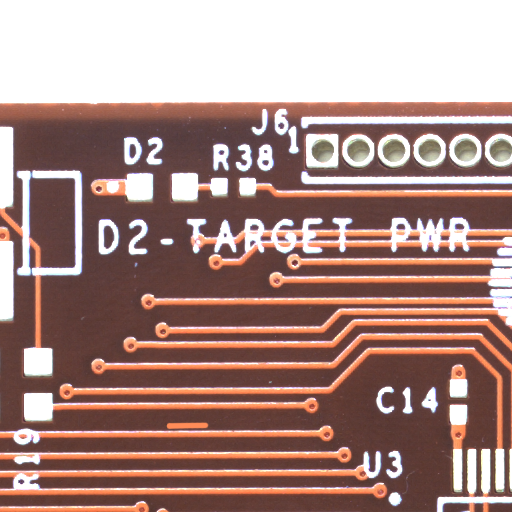Spurious_copper: (187, 425, 232, 435)
